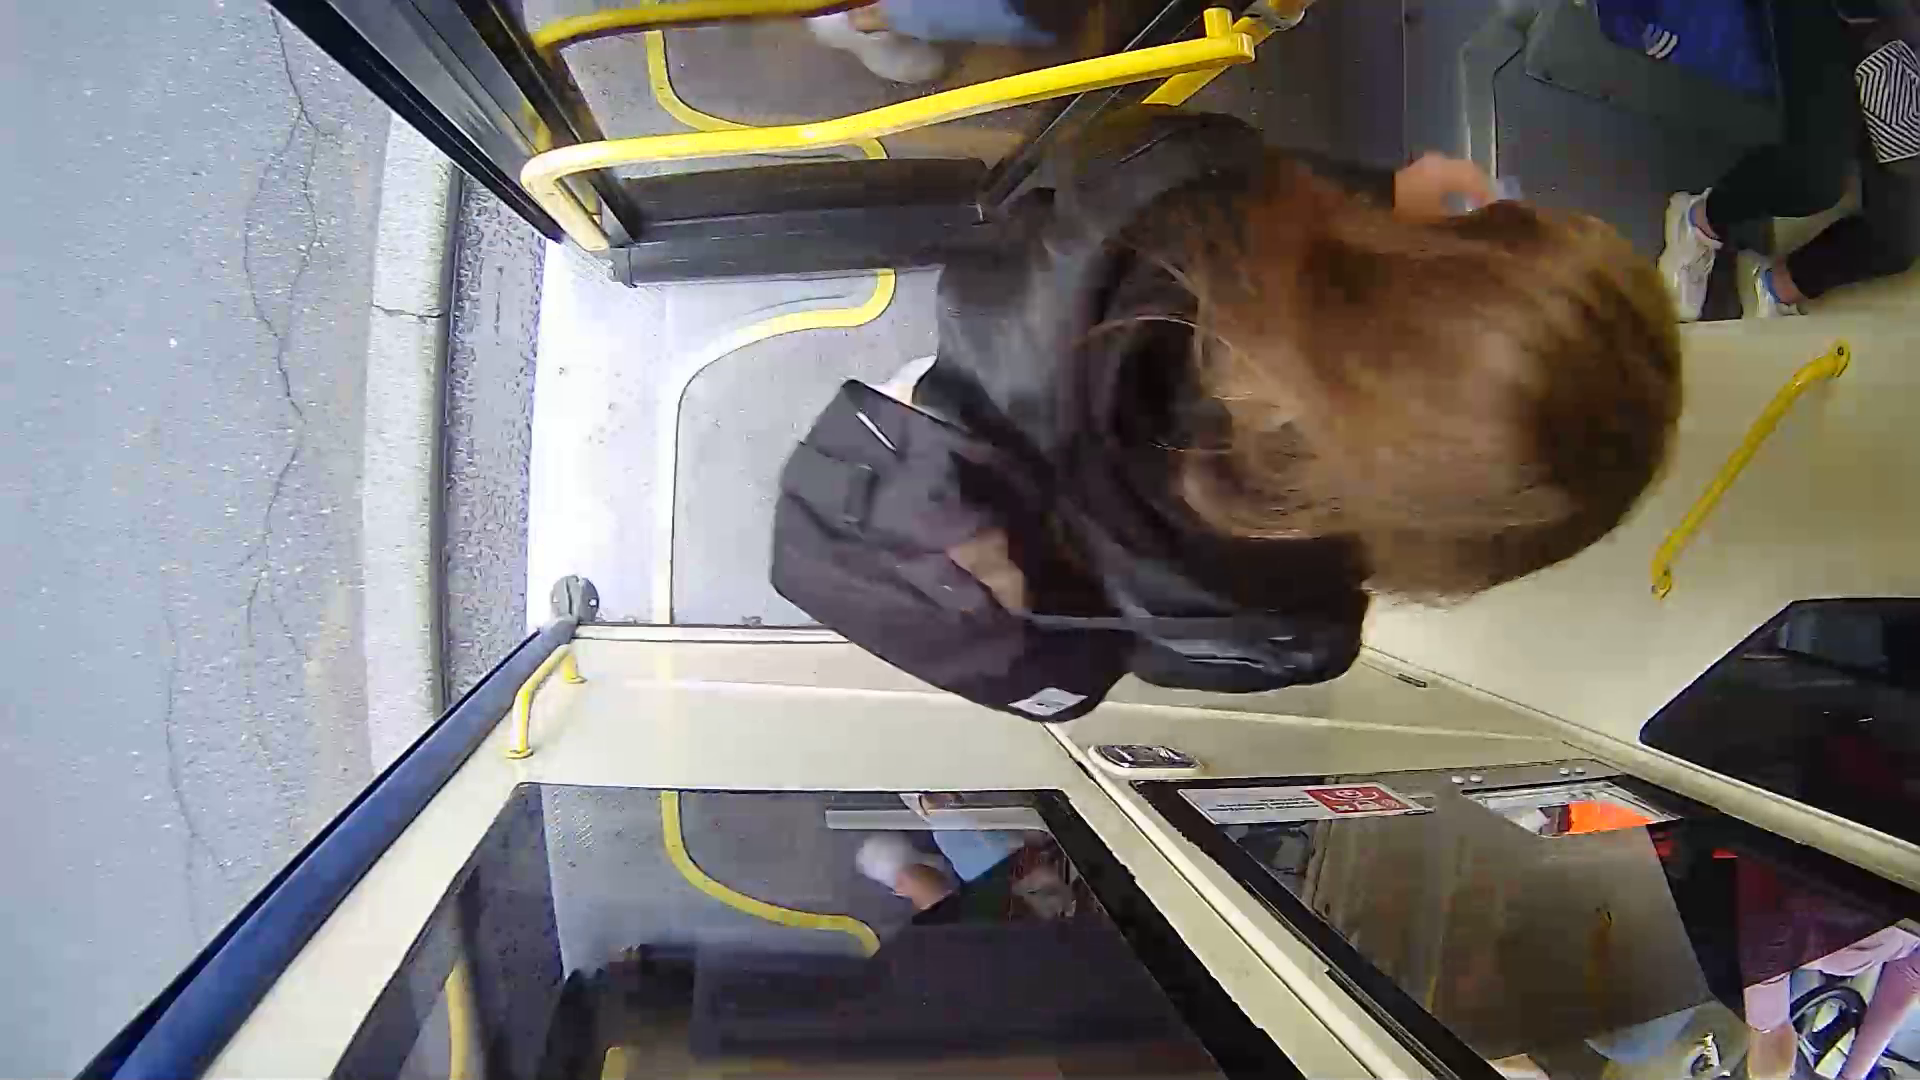person: (816, 124, 1671, 717)
